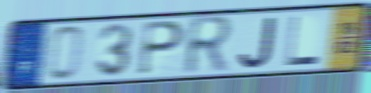0: (44, 23, 89, 83)
3: (96, 22, 134, 80)
J: (237, 15, 279, 70)
L: (284, 14, 322, 68)
P: (136, 19, 187, 77)
R: (181, 13, 236, 78)
